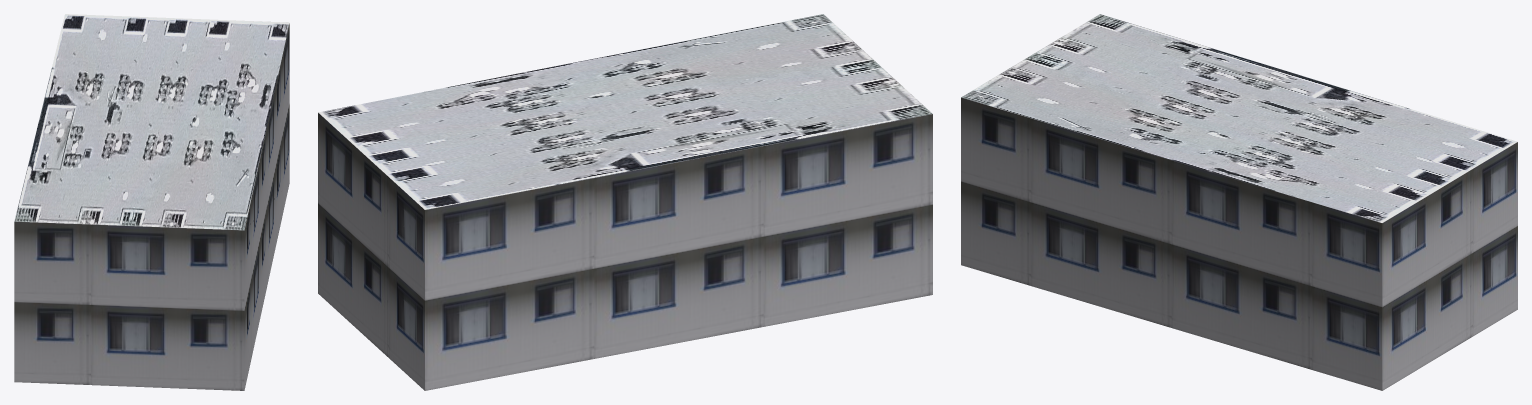
The model's file is ResTex__3825.fbx.
3 views of the same model, side by side, from view 1: azimuth 30°, elevation 25°; view 2: azimuth 150°, elevation 25°; view 3: azimuth 270°, elevation 25° (orthographic). The views are drawn at different scales.
Visible parts, largest first — view 1: CityEngineMaterial_8_m, CityEngineMaterial_9_m; view 2: CityEngineMaterial_9_m, CityEngineMaterial_8_m; view 3: CityEngineMaterial_9_m, CityEngineMaterial_8_m.
Part boxes in pixels (x1,y1,x2,y2): CityEngineMaterial_8_m: (14, 14, 289, 230); CityEngineMaterial_9_m: (14, 23, 289, 390); CityEngineMaterial_9_m: (318, 113, 932, 390); CityEngineMaterial_8_m: (318, 14, 932, 209); CityEngineMaterial_9_m: (961, 97, 1517, 390); CityEngineMaterial_8_m: (961, 14, 1517, 222).
Size of the model in its own units: 16.05 by 6 by 18.05.
2 materials, 2 textured.
